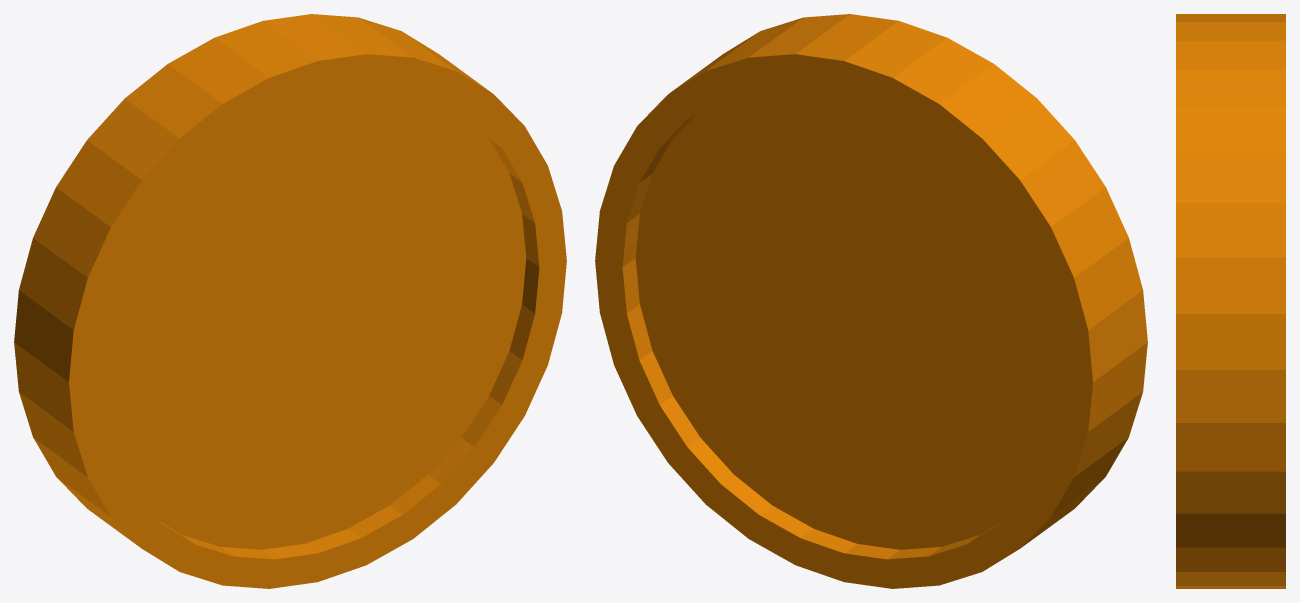
The model's file is Gold.fbx.
3 renders of one model, left to right at view 1: azimuth 30°, elevation 25°; view 2: azimuth 150°, elevation 25°; view 3: azimuth 270°, elevation 25°, orthographic.
Visible parts, largest first — view 1: 원형; view 2: 원형; view 3: 원형.
Part boxes in pixels (x1,y1,x2,y2): 원형: (14,14,566,588); 원형: (595,14,1147,588); 원형: (1176,14,1285,588).
Bounding box in the file's own units: 200 × 200 × 38.17.
